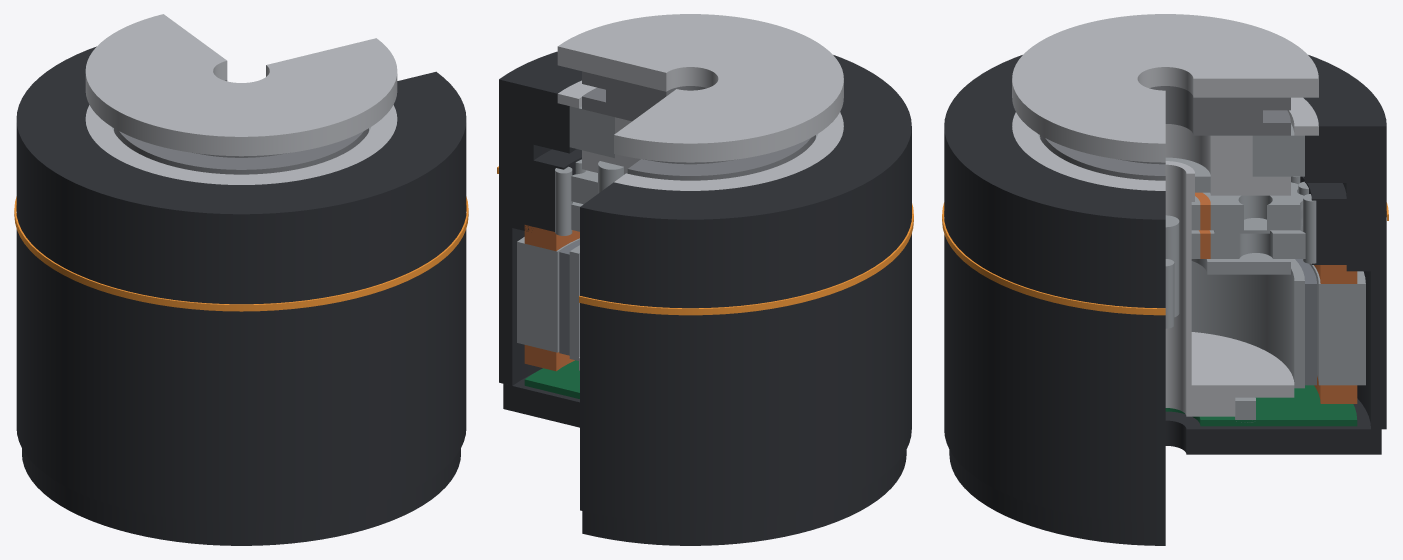
The model's file is kh25_cutaway.glb.
The picture shows the model from 3 angles, left to right: view 1: azimuth 30°, elevation 25°; view 2: azimuth 150°, elevation 25°; view 3: azimuth 270°, elevation 25°; orthographic projection.
Parts seen in each view (by area): view 1: housing__act_front_housing, housing__act_motor_housing, output__alu_output_flange, housing__act_rear_cap, housing__alu_bearing_clamp_ring, torque__ti_torque_flexure_strain_gauged, housing__accent_status_ring; view 2: housing__act_front_housing, housing__act_motor_housing, output__alu_output_flange, housing__act_rear_cap, torque__ti_torque_flexure_strain_gauged, stator__steel_stator_KM115x32, housing__alu_bearing_clamp_ring, housing__accent_status_ring, cycloid__act_pin_ring_42CrMo4, bearing__steel_crossed_roller_THK_RB5013, pcb__pcb_drive_pcb, rotor__magnet_rotor_magnets (+7 smaller); view 3: housing__act_front_housing, housing__act_motor_housing, output__alu_output_flange, housing__act_rear_cap, rotor__alu_rotor_hub_hollow, rotor__steel_rotor_back_iron, torque__ti_torque_flexure_strain_gauged, stator__steel_stator_KM115x32, output__alu_output_front_disc, pcb__pcb_drive_pcb, housing__alu_bearing_clamp_ring, cycloid__steel_cycloid_disc_B (+12 smaller).
Part boxes in pixels (x1,y1,x2,y2): housing__act_front_housing: [16, 46, 466, 361]; housing__act_motor_housing: [16, 270, 466, 522]; output__alu_output_flange: [85, 14, 397, 156]; housing__act_rear_cap: [22, 449, 460, 545]; housing__alu_bearing_clamp_ring: [85, 105, 397, 184]; torque__ti_torque_flexure_strain_gauged: [114, 80, 368, 174]; housing__accent_status_ring: [14, 196, 468, 311]; housing__act_front_housing: [499, 51, 911, 364]; housing__act_motor_housing: [499, 225, 911, 522]; output__alu_output_flange: [557, 14, 843, 162]; housing__act_rear_cap: [503, 374, 906, 545]; torque__ti_torque_flexure_strain_gauged: [582, 71, 815, 180]; stator__steel_stator_KM115x32: [517, 237, 579, 352]; housing__alu_bearing_clamp_ring: [557, 80, 843, 190]; housing__accent_status_ring: [497, 166, 913, 315]; cycloid__act_pin_ring_42CrMo4: [533, 149, 581, 231]; bearing__steel_crossed_roller_THK_RB5013: [569, 106, 817, 158]; pcb__pcb_drive_pcb: [524, 360, 579, 398]; rotor__magnet_rotor_magnets: [559, 240, 579, 355]; housing__act_front_housing: [944, 55, 1386, 364]; housing__act_motor_housing: [944, 271, 1386, 522]; output__alu_output_flange: [1012, 14, 1318, 162]; housing__act_rear_cap: [949, 398, 1381, 545]; rotor__alu_rotor_hub_hollow: [1165, 161, 1294, 416]; rotor__steel_rotor_back_iron: [1191, 259, 1304, 388]; torque__ti_torque_flexure_strain_gauged: [1040, 86, 1290, 180]; stator__steel_stator_KM115x32: [1309, 263, 1365, 385]; output__alu_output_front_disc: [1165, 124, 1290, 195]; pcb__pcb_drive_pcb: [1165, 385, 1357, 426]; housing__alu_bearing_clamp_ring: [1012, 97, 1318, 190]; cycloid__steel_cycloid_disc_B: [1203, 182, 1303, 230].
Bounding box in the file's own units: 128 × 119 × 128.
